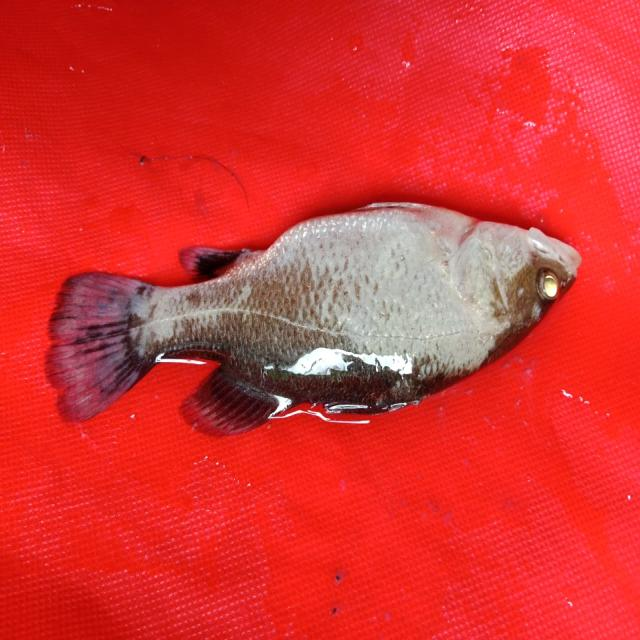ikan: (40, 181, 590, 456)
